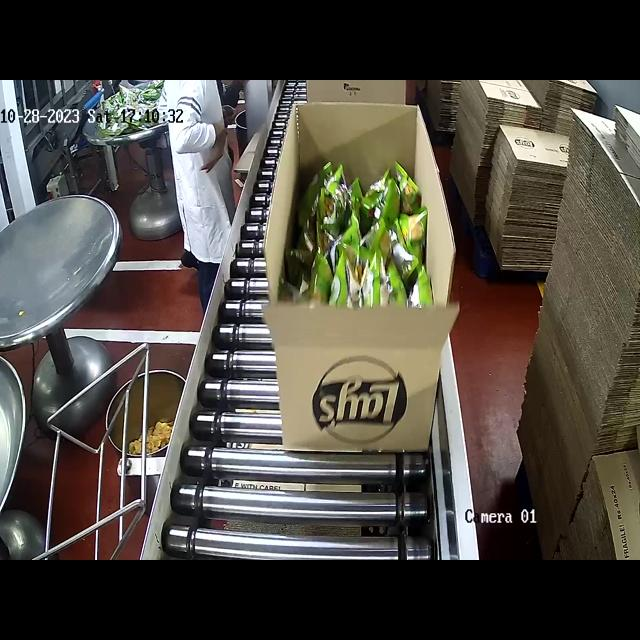yogurt: (309, 149, 427, 322)
